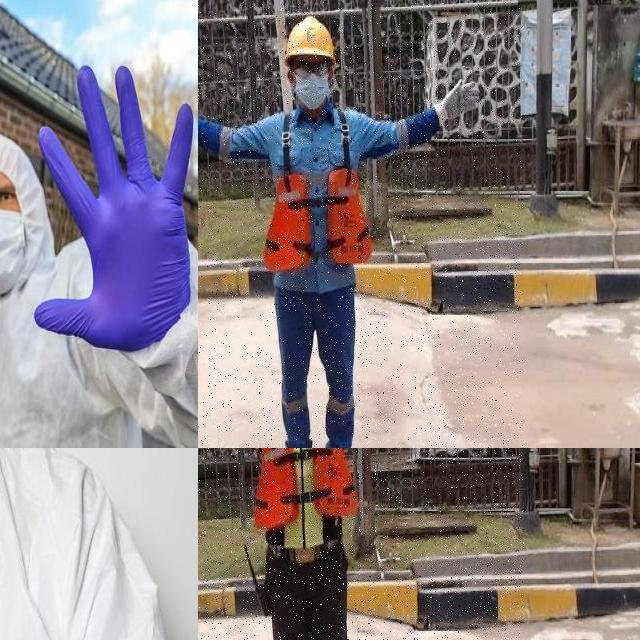GLASS: (288, 60, 332, 79)
GLOVE: (436, 78, 481, 124)
Glove: (33, 57, 198, 354)
HELMET: (283, 10, 341, 68)
MASK: (0, 206, 31, 293)
VEST: (260, 114, 380, 287), (253, 448, 356, 549)
